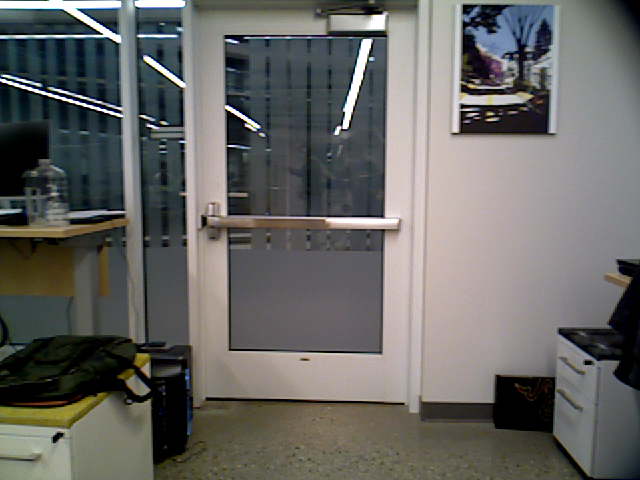painting3: (453, 2, 553, 135)
